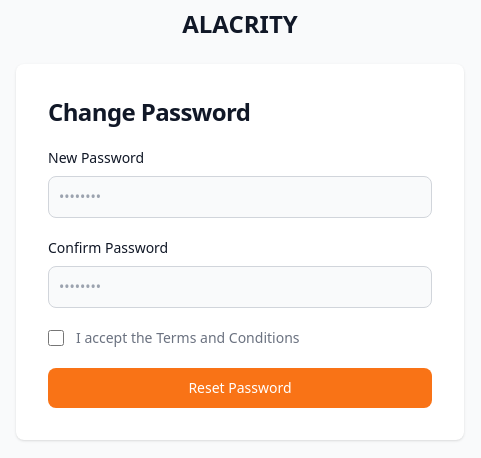
Test: ResetPasswordForm › displays success message after reset
The image size is (481, 458).
Type "StrongPass1!" into the password field labelled "New Password".
click(240, 197); type("StrongPass1!")  # box [48, 176, 432, 218]
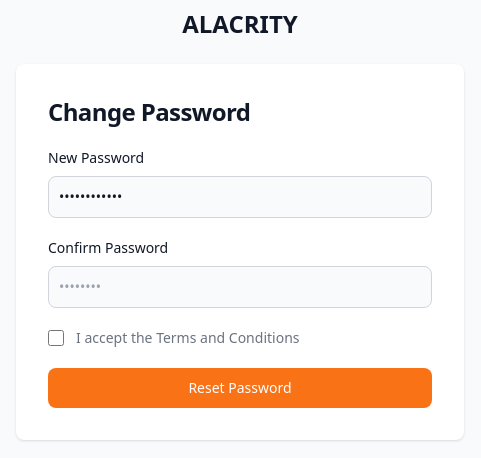
Type "StrongPass1!" into the password field labelled "Confirm Password".
click(240, 287); type("StrongPass1!")  # box [48, 266, 432, 308]
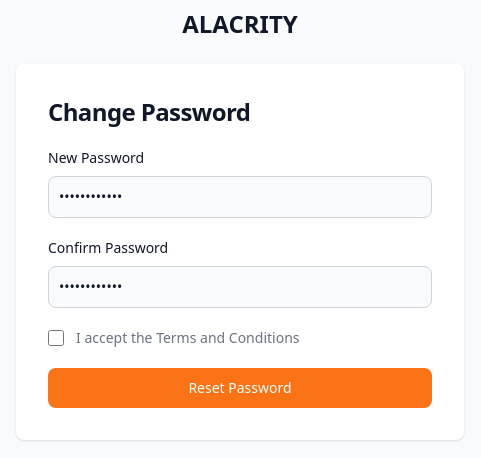
Ensure the checkbox is clicked
Click the checkbox labelled "I accept the Terms and Conditions".
click(56, 338)  # box [48, 330, 64, 346]
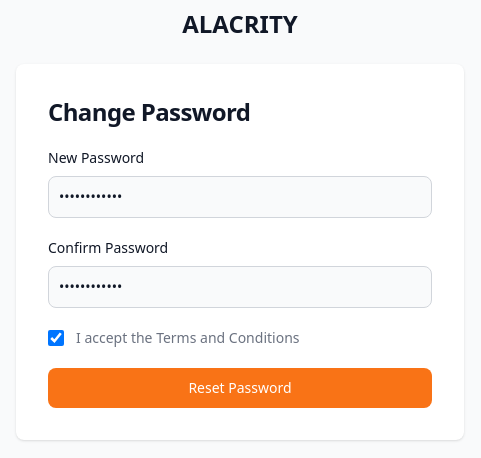
Click the button "Reset Password".
click(240, 388)  # box [48, 368, 432, 408]
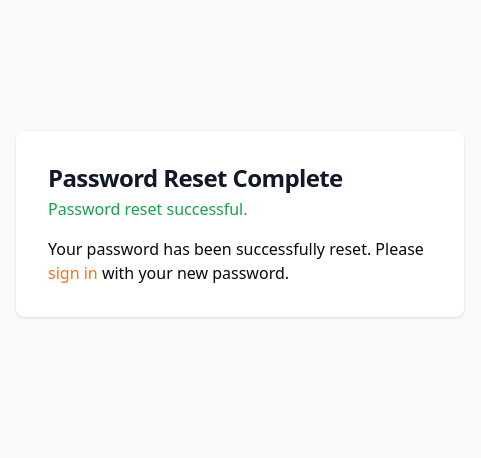
Expected: the text "Password reset successful." is shown, [48, 198, 248, 220]
Expected: the link "sign in" is shown, [48, 262, 98, 284]
